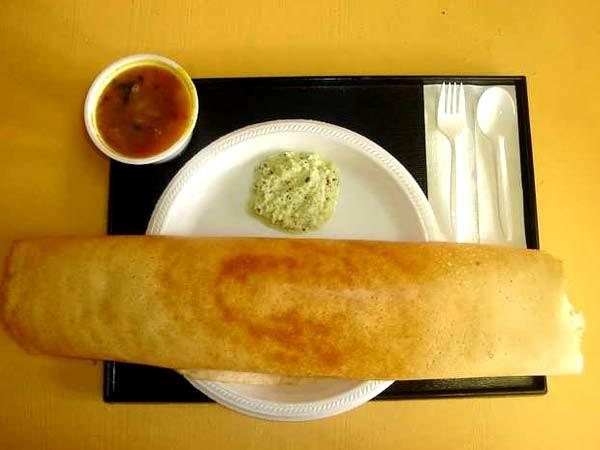CoconutChutney: (247, 149, 340, 234)
Dosa: (0, 235, 584, 384)
